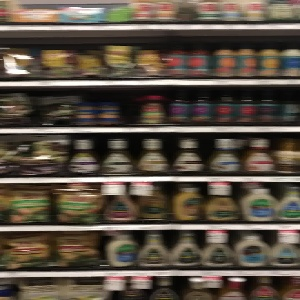void: (119, 85, 140, 129)
